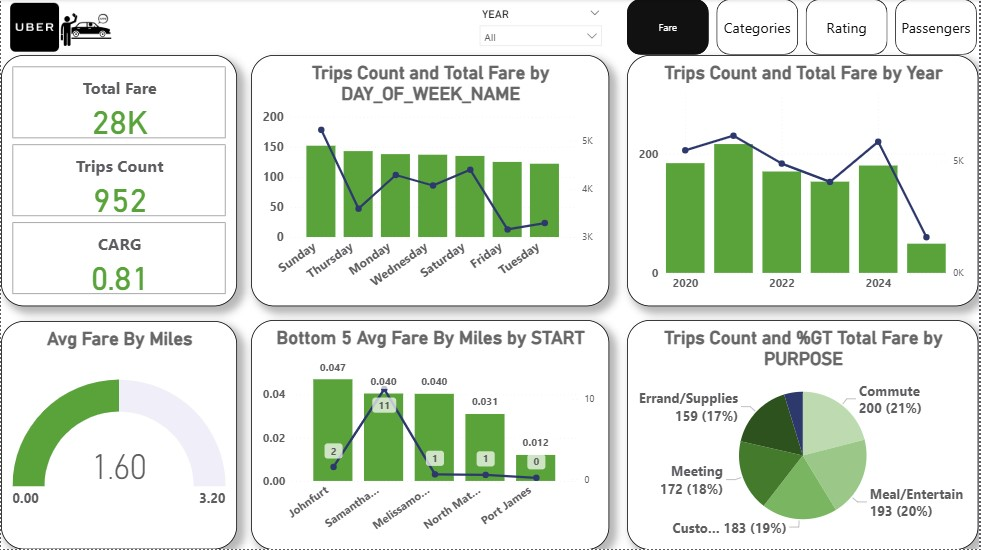

This screenshot's page, from the dashboard's own definition file:
{"tool":"powerbi","page":{"name":"Fare","canvas":[1280,720],"ordinal":0},"visuals":[{"type":"lineClusteredColumnComboChart","fields":{"Category":["Dimdate.Date.Variation.Date Hierarchy.Year","Dimdate.Date.Variation.Date Hierarchy.Quarter","Dimdate.Date.Variation.Date Hierarchy.Month","Dimdate.Date.Variation.Date Hierarchy.Day"],"Y":["MyMesaures.Trips Count"],"Y2":["MyMesaures.Total Fare"]},"box":[819.7,73.9,460.3,329.2],"z":0},{"type":"lineClusteredColumnComboChart","fields":{"Category":["cleaned_uber_data1.DAY_OF_WEEK_NAME"],"Y2":["MyMesaures.Total Fare"],"Y":["MyMesaures.Trips Count"]},"box":[327.6,73.9,468.7,329.2],"z":1000},{"type":"pieChart","fields":{"Category":["cleaned_uber_data1.PURPOSE"],"Y":["MyMesaures.Trips Count"]},"box":[819.7,419.9,460.3,300.7],"z":2000},{"type":"gauge","fields":{"Y":["MyMesaures.Avg Fare By Miles"]},"box":[0,421.6,309.1,299],"z":3000},{"type":"pageNavigator","box":[819.7,0,460.3,73.9],"z":4000},{"type":"lineClusteredColumnComboChart","title":"Bottom 5 Avg Fare By Miles by START","fields":{"Category":["cleaned_uber_data1.START"],"Y":["MyMesaures.Avg Fare By Miles"],"Y2":["MyMesaures.Total Fare"]},"box":[327.6,419.9,468.7,300.7],"z":5000},{"type":"image","box":[73.9,0,75.6,80.6],"z":6000},{"type":"image","box":[0,0,87.3,73.9],"z":7000},{"type":"cardVisual","fields":{"Data":["MyMesaures.Total Fare","MyMesaures.Trips Count","MyMesaures.CARG"]},"box":[0,73.9,309.1,329.2],"z":8000},{"type":"slicer","fields":{"Values":["cleaned_uber_data1.YEAR"]},"box":[616.5,6.7,179.7,73.9],"z":9000}]}

Visuals, with their boxes in screenshot pixels (x1, y1, x2, y2), scaled from the page's 1280x720 canvas onto the 981x550 screenshot:
lineClusteredColumnComboChart - Dimdate.Date.Variation.Date Hierarchy.Year x Dimdate.Date.Variation.Date Hierarchy.Quarter: left=628, top=56, right=980, bottom=308
lineClusteredColumnComboChart - cleaned_uber_data1.DAY_OF_WEEK_NAME x MyMesaures.Total Fare: left=251, top=56, right=610, bottom=308
pieChart - cleaned_uber_data1.PURPOSE x MyMesaures.Trips Count: left=628, top=321, right=980, bottom=549
gauge - MyMesaures.Avg Fare By Miles: left=0, top=322, right=237, bottom=549
pageNavigator: left=628, top=0, right=980, bottom=56
"Bottom 5 Avg Fare By Miles by START" lineClusteredColumnComboChart: left=251, top=321, right=610, bottom=549
image: left=57, top=0, right=115, bottom=62
image: left=0, top=0, right=67, bottom=56
cardVisual - MyMesaures.Total Fare x MyMesaures.Trips Count: left=0, top=56, right=237, bottom=308
slicer - cleaned_uber_data1.YEAR: left=472, top=5, right=610, bottom=62
